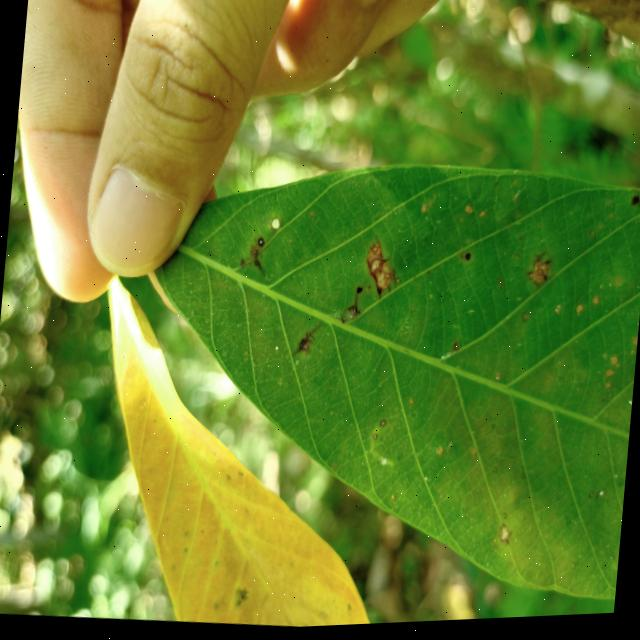Colletotrichum: (256, 238, 264, 250), (630, 200, 639, 210), (463, 257, 470, 266), (378, 422, 385, 430), (355, 289, 362, 297), (372, 436, 376, 444)
Corynespora: (290, 328, 317, 361), (248, 247, 266, 277)
Leaf-Blight: (363, 245, 395, 294), (528, 265, 546, 289)
